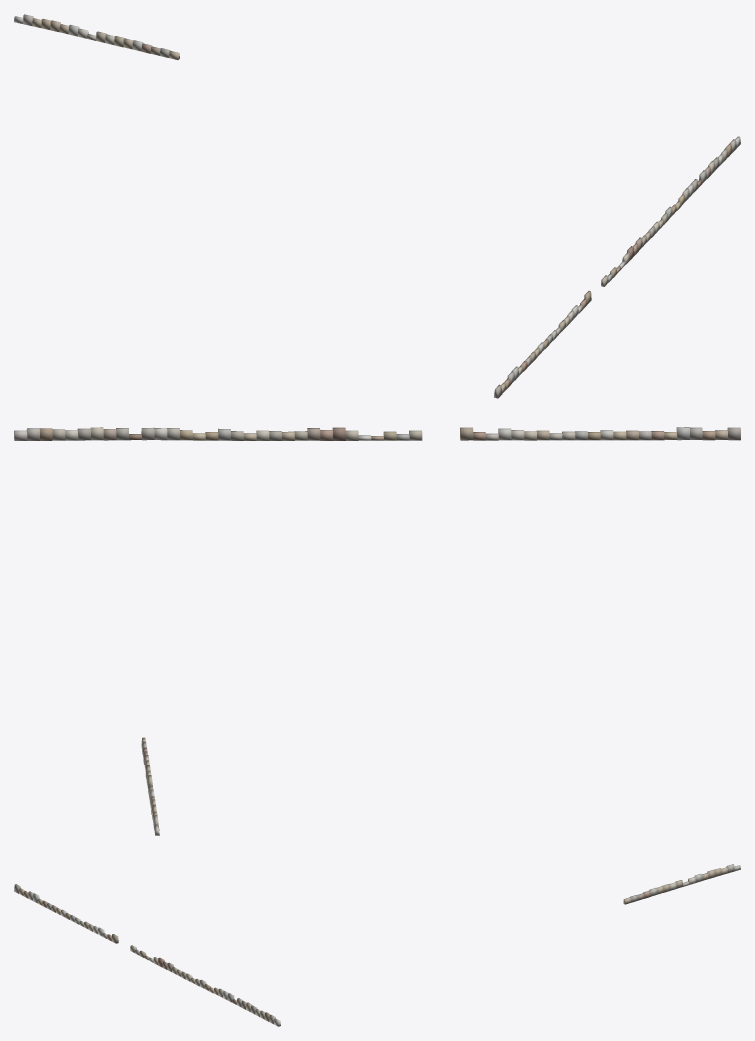
File: farm_29_12_collision.glb
3 renders of one model, top to bottom at view 1: azimuth 30°, elevation 25°; view 2: azimuth 150°, elevation 25°; view 3: azimuth 270°, elevation 25°, orthographic. The views are drawn at different scales.
Parts seen in each view (by area): view 1: geometry_0; view 2: geometry_0; view 3: geometry_0.
Part boxes in pixels (bbox=[...]): geometry_0: bbox=[14, 14, 740, 398]; geometry_0: bbox=[14, 427, 740, 835]; geometry_0: bbox=[14, 864, 740, 1026].
Bounding box in the file's own units: 74.85 × 6.09 × 147.
